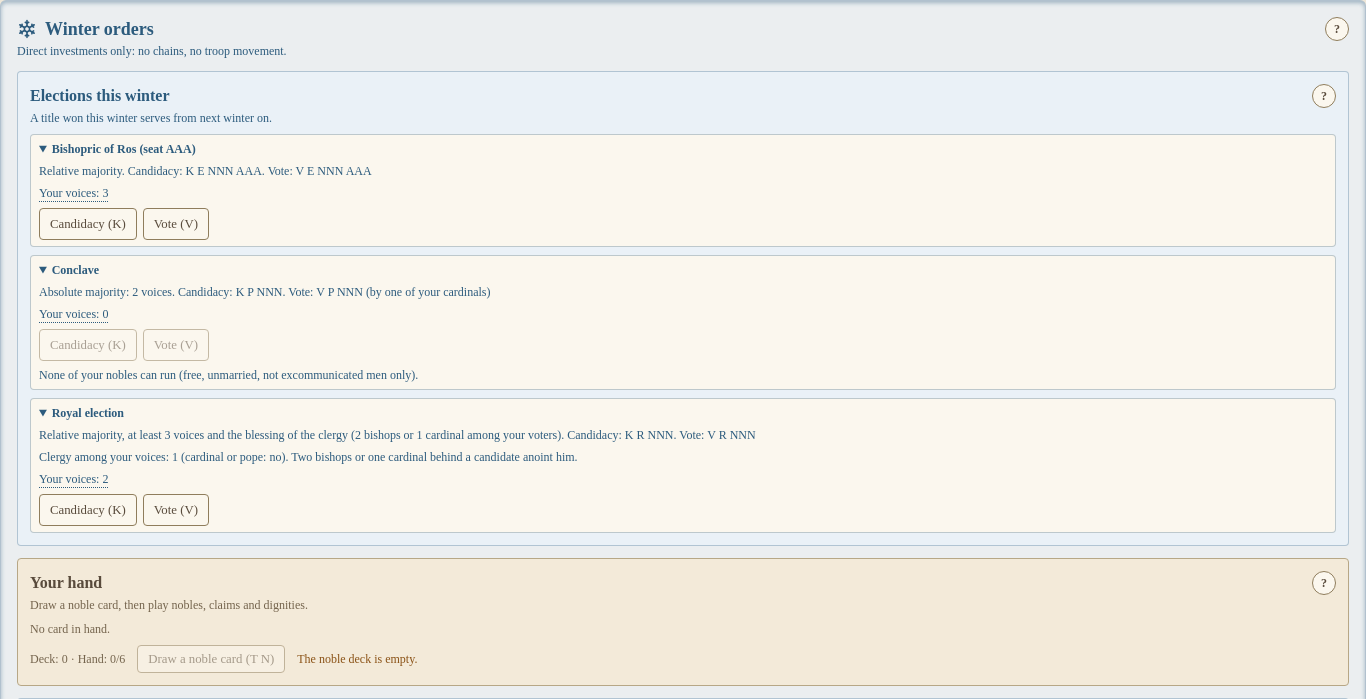
Test case: OrdersPanel winter elections › announces open elections with their rules and the timing note
Expected: the heading "Elections this winter" is shown, [30,84,170,108]
Expected: the heading "Bishopric of Ros (seat AAA)" is shown, [52,142,196,156]
Click the button named "Help: Elections this winter" at (1324, 96), box [1312,84,1336,108]
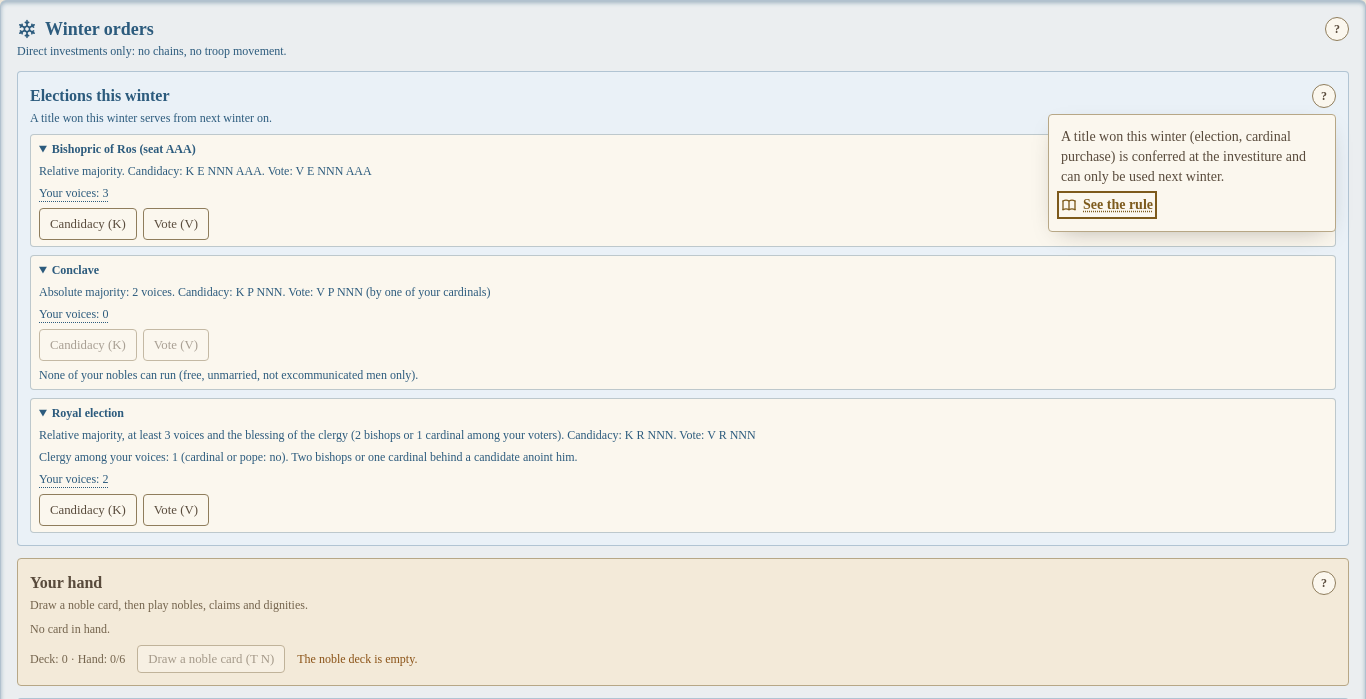
Expected: the text "can only be used next winter" is shown, [1061,129,1306,184]
